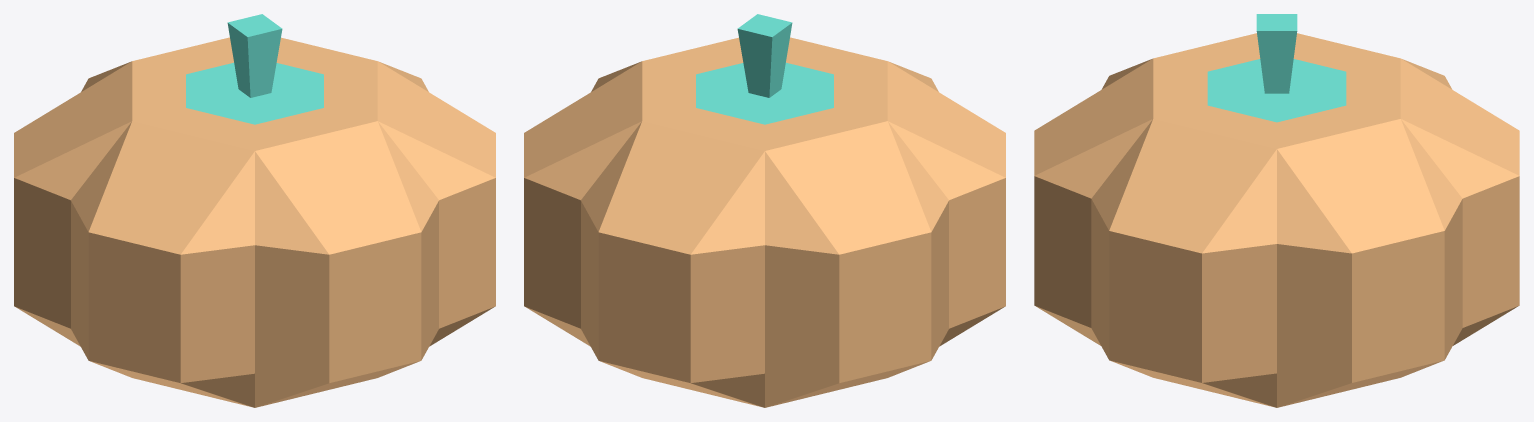
Rendered from kn_crop_pumpkin.fbx.
3 renders of one model, left to right at view 1: azimuth 30°, elevation 25°; view 2: azimuth 150°, elevation 25°; view 3: azimuth 270°, elevation 25°, orthographic.
Parts seen in each view (by area): view 1: kn_crop_pumpkin; view 2: kn_crop_pumpkin; view 3: kn_crop_pumpkin.
Part boxes in pixels (x1,y1,x2,y2): kn_crop_pumpkin: [14, 14, 495, 407]; kn_crop_pumpkin: [524, 14, 1005, 407]; kn_crop_pumpkin: [1034, 14, 1519, 407].
Size of the model in its own units: 0.7931 by 0.6 by 0.8123.
Materials: 1 (1 with a texture image).
